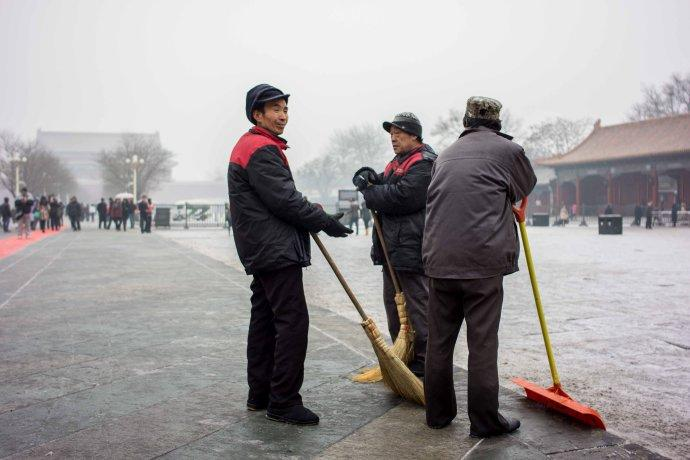person: (226, 83, 354, 426), (421, 96, 538, 437), (351, 113, 440, 381), (13, 187, 34, 240), (66, 195, 82, 232), (38, 195, 51, 233), (346, 202, 360, 236), (360, 200, 373, 236), (106, 198, 120, 231), (111, 197, 124, 231), (139, 194, 150, 234), (1, 197, 13, 233), (96, 198, 108, 230), (145, 198, 155, 233), (120, 197, 130, 232), (50, 198, 60, 232), (127, 197, 137, 229), (646, 201, 654, 230), (634, 203, 643, 226), (560, 204, 569, 227), (670, 202, 678, 227), (604, 204, 614, 224), (89, 204, 97, 223), (571, 204, 577, 222), (84, 204, 90, 222)
